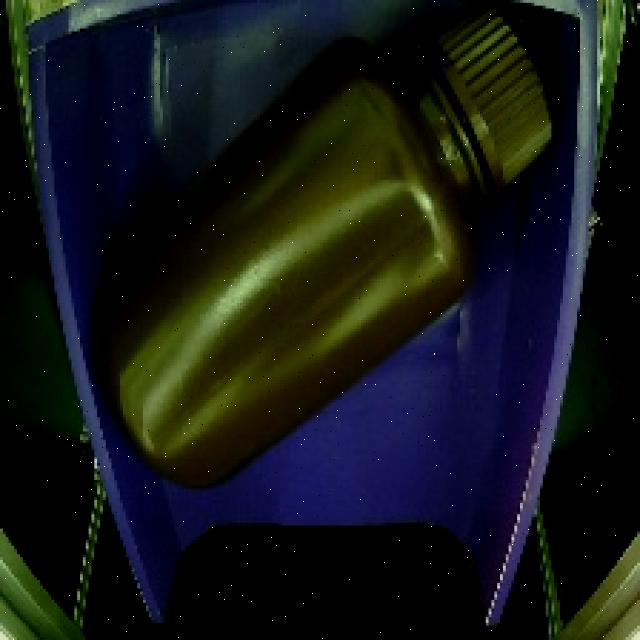plastic: (82, 0, 571, 501)
